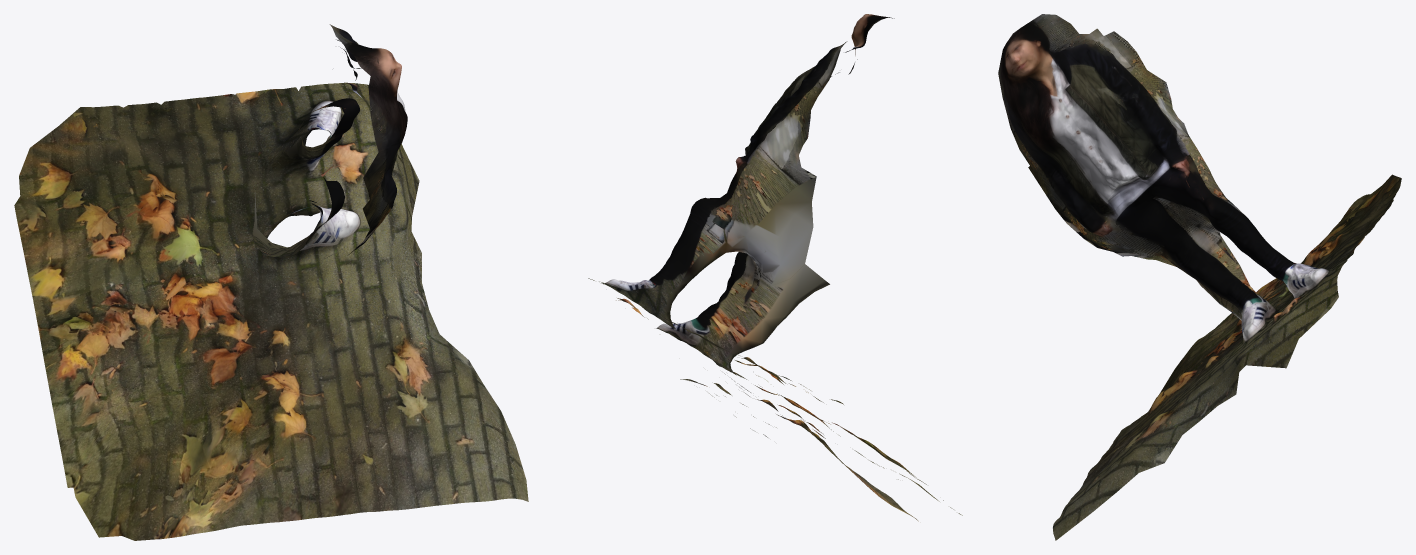
File: andarrrr.glb
3 views of the same model, side by side, from view 1: azimuth 30°, elevation 25°; view 2: azimuth 150°, elevation 25°; view 3: azimuth 270°, elevation 25° (orthographic). The views are drawn at different scales.
Size of the model in its own units: 0.5149 by 0.6344 by 0.5207.
1 material, 1 textured.
